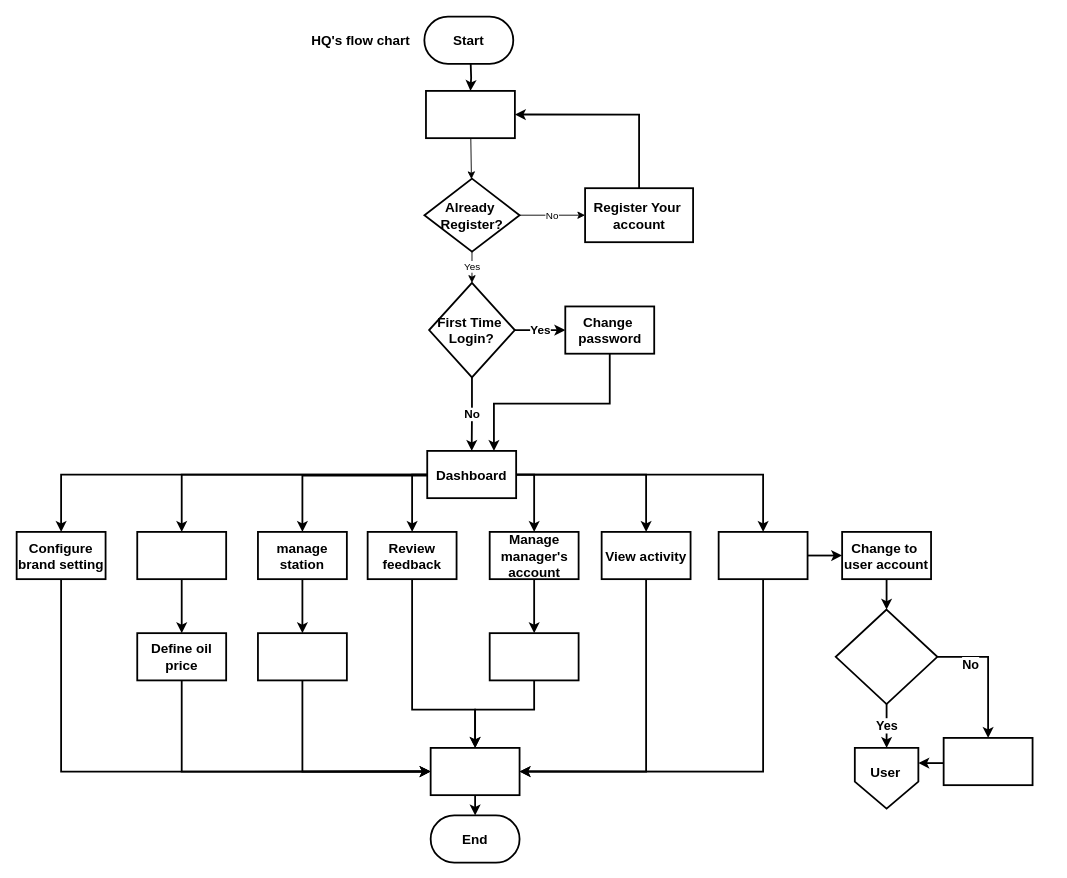
The diagram is 1067 pixels wide and 878 high, and some of its shapes have lost their labels. Here are the shapes that lost their labels. From the top down, the centre of each, then its label:
At point 470,114: "Login/ Register".
At point 181,555: "Define standard oil type".
At point 762,555: "Edit Profile".
At point 302,656: "Create manager account".
At point 533,656: "Active / Disable account".
At point 886,656: "Already connect user account?".
At point 474,771: "Logout".
At point 987,761: "Connect user account".
